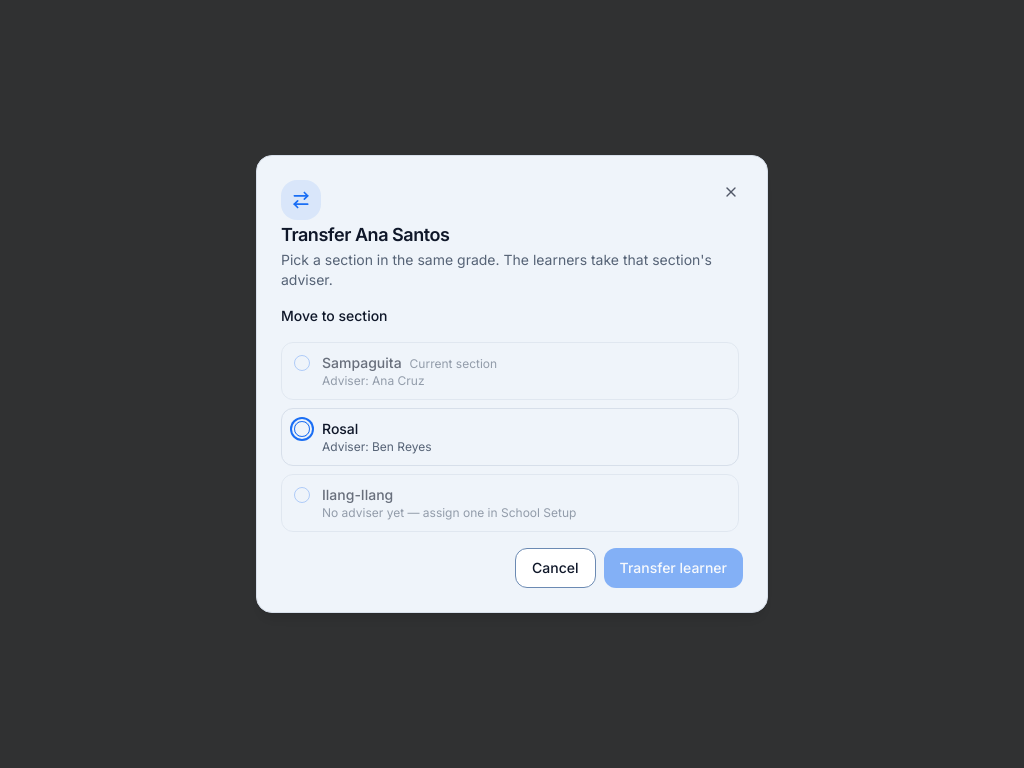
Scenario: TransferLearnersDialog — outcomes › keeps the dialog open with the input and shows the field error on a failed result
Step 1. Click the radio button named "Rosal" next to "Rosal" → coordinates (302, 429), box [294, 421, 310, 437]
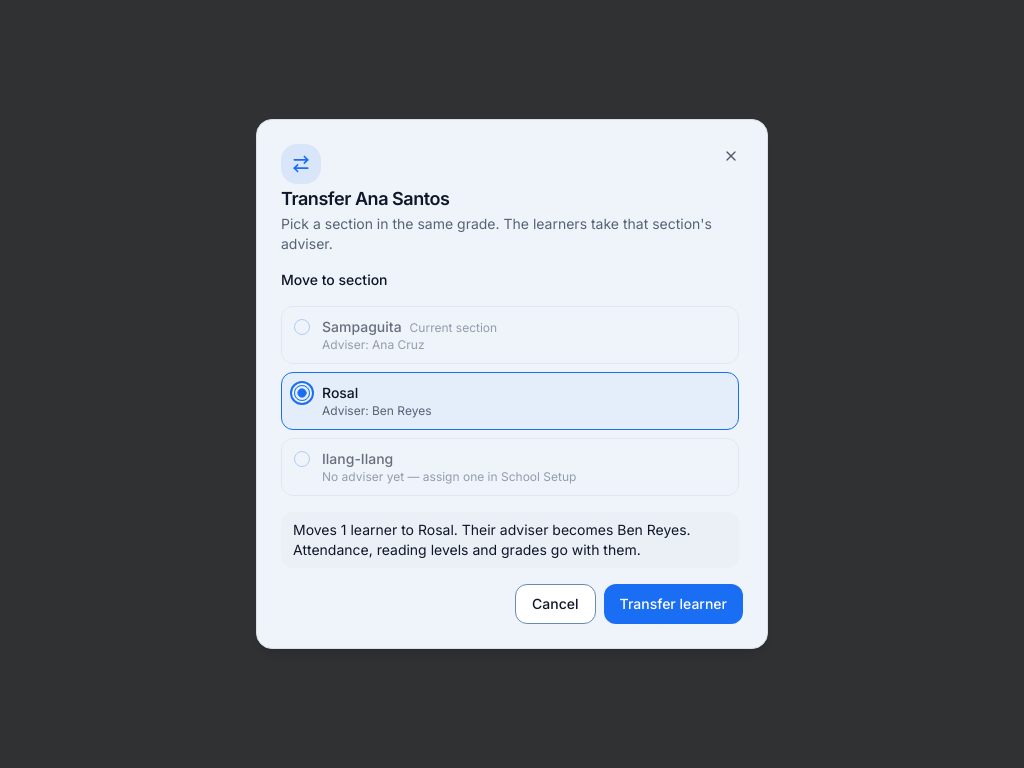
Step 2. Click the button "Transfer learner" → coordinates (673, 604), box [604, 584, 743, 624]
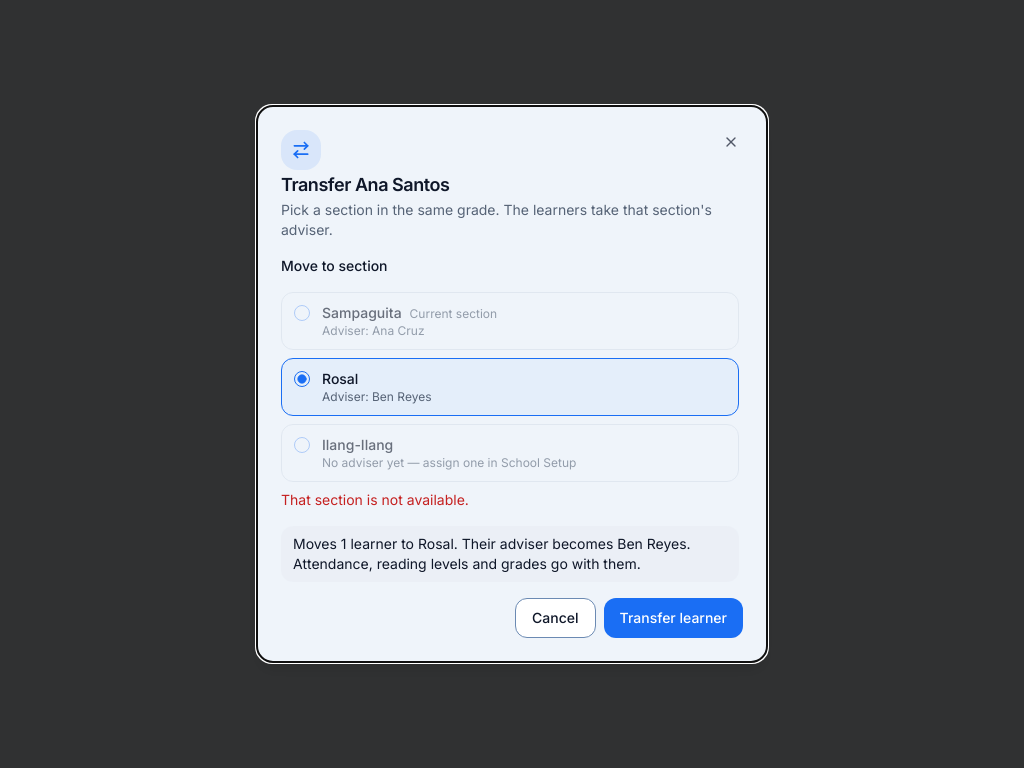
Check: the button "Transfer learner" is enabled, box [604, 598, 743, 638]
Check: the text "That section is not available." is shown, box [281, 491, 469, 508]
